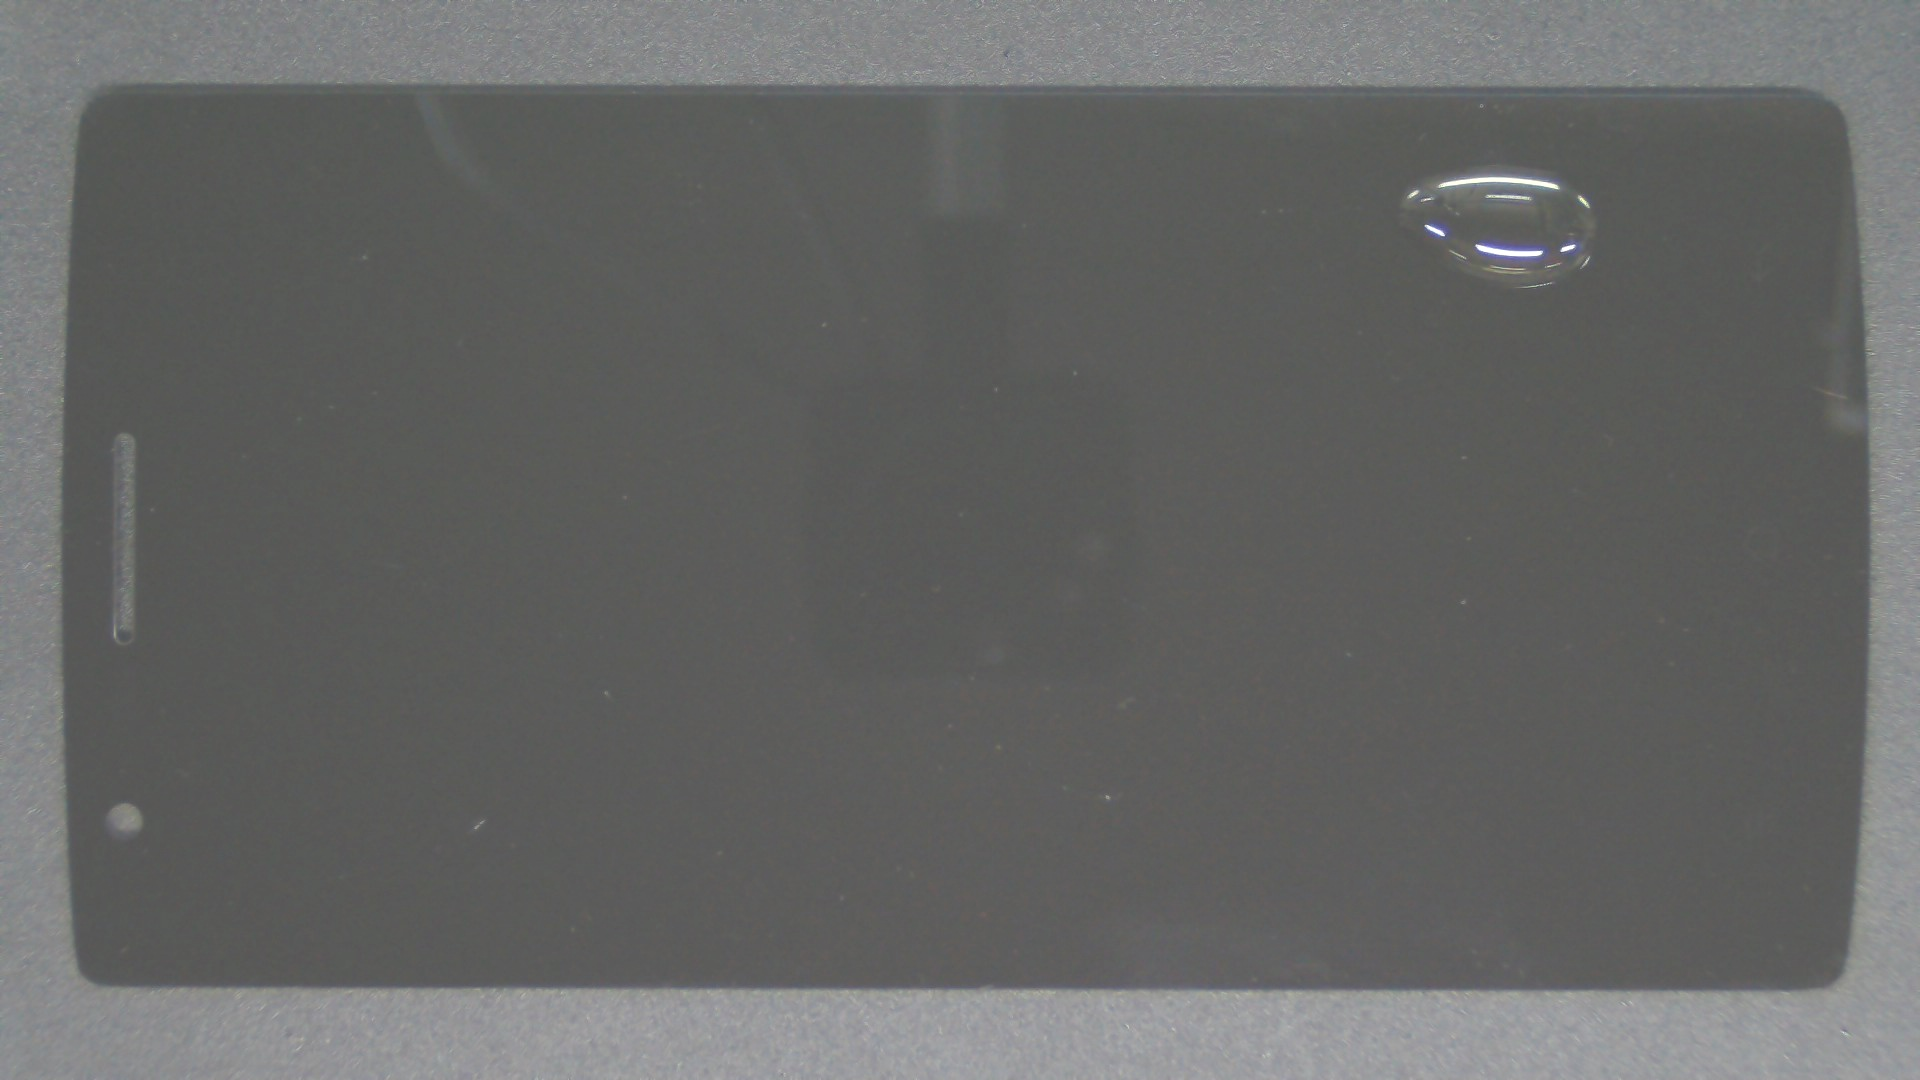oil: (742, 82, 1920, 248)
